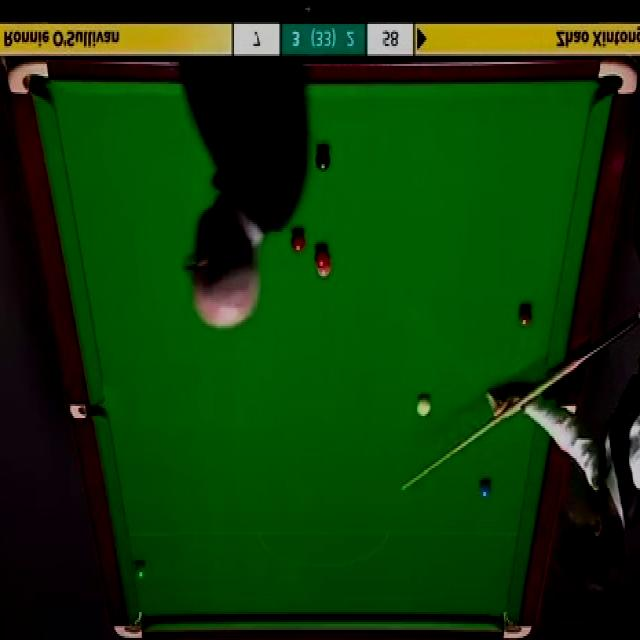pocket: (5, 57, 51, 95), (594, 60, 637, 98), (500, 608, 532, 640), (112, 611, 147, 640), (68, 403, 104, 420)
